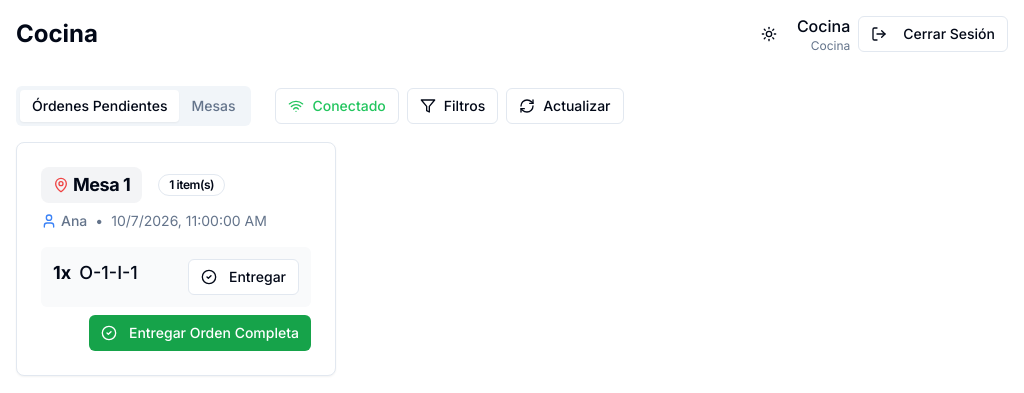
kitchen board requests › empties the board when the refresh says the queue is empty
The width and height of the screenshot is (1024, 393).
Expected: the text "O-1-I-1" is shown, x1=79 y1=259 x2=138 y2=287
Click the button "Actualizar" at (565, 106), box x1=506 y1=88 x2=624 y2=124
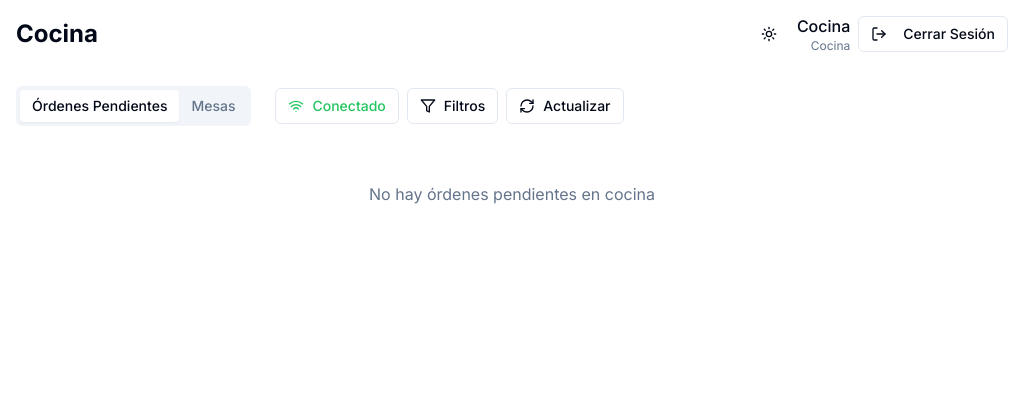
Result: the text "No hay órdenes pendientes en cocina" is shown at x1=369 y1=184 x2=655 y2=204
